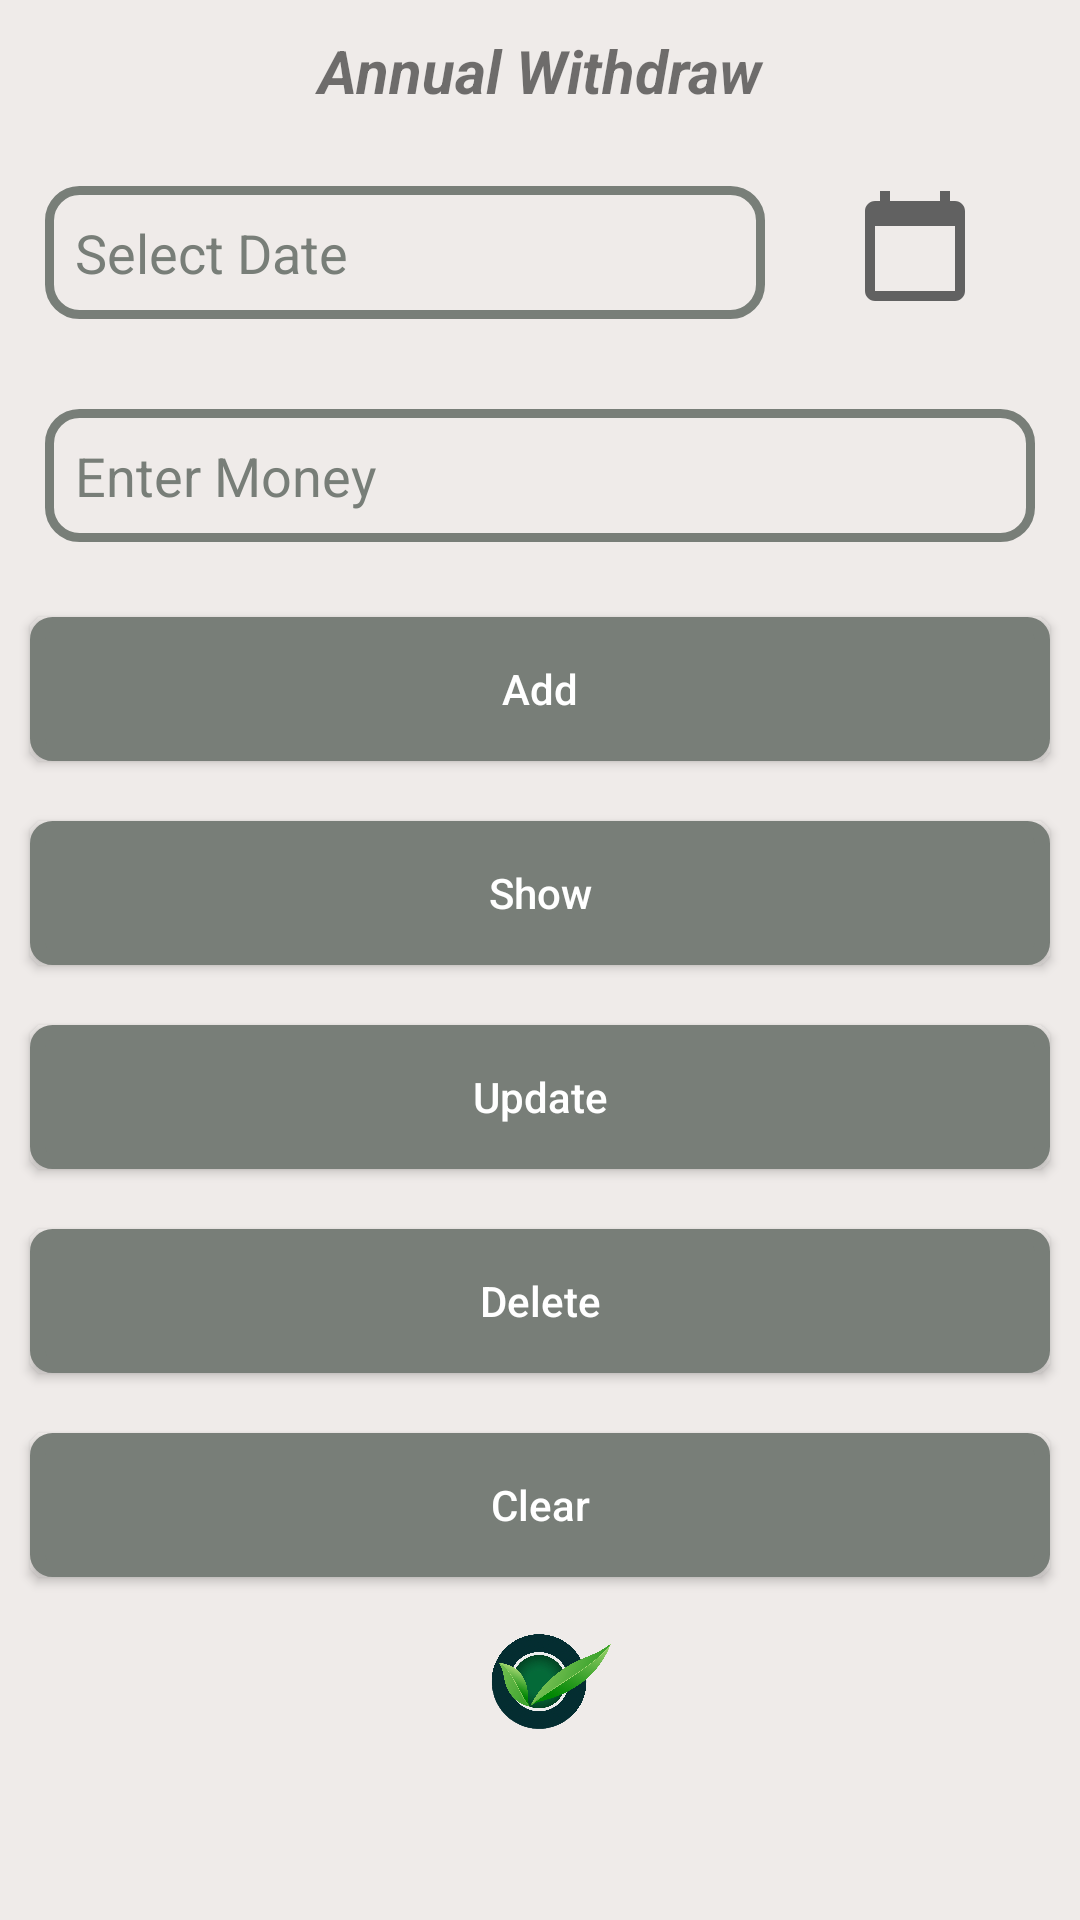

Where to tap for icons on this 1080x1920 app screen, as point (x, y):
calendar: point (915, 246)
